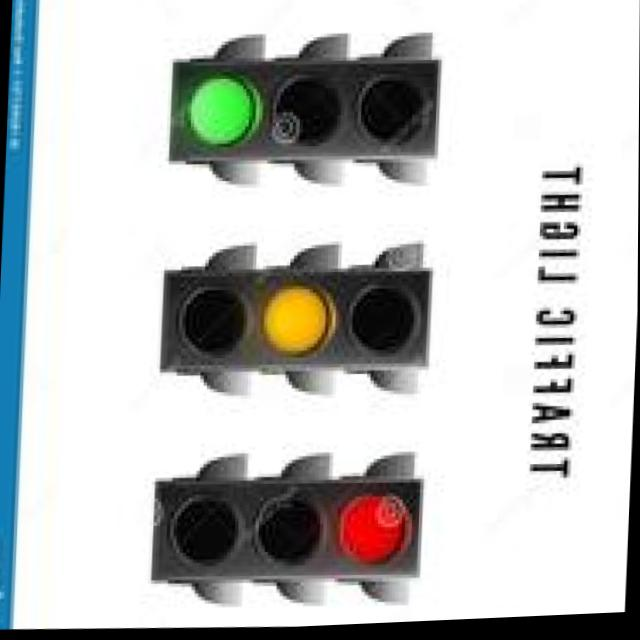green_light: (179, 58, 262, 162)
red_light: (326, 461, 414, 586)
yellow_light: (248, 265, 357, 397)
